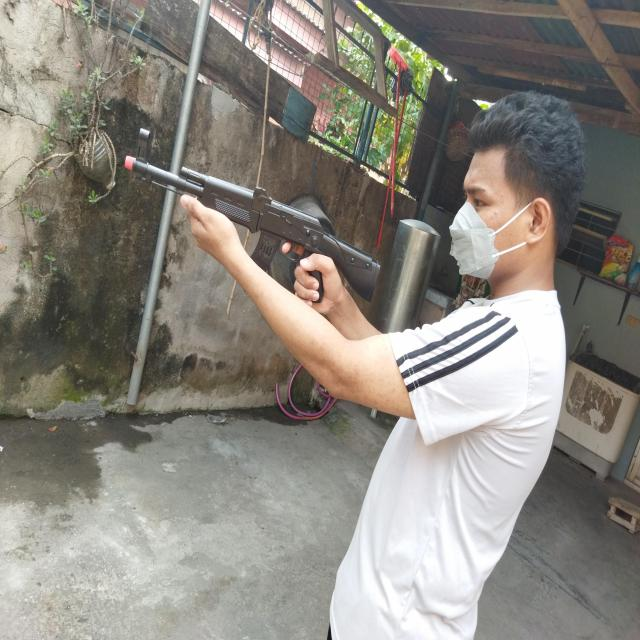rifle: (125, 128, 380, 304)
